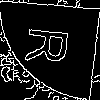R: (25, 25, 79, 67)
